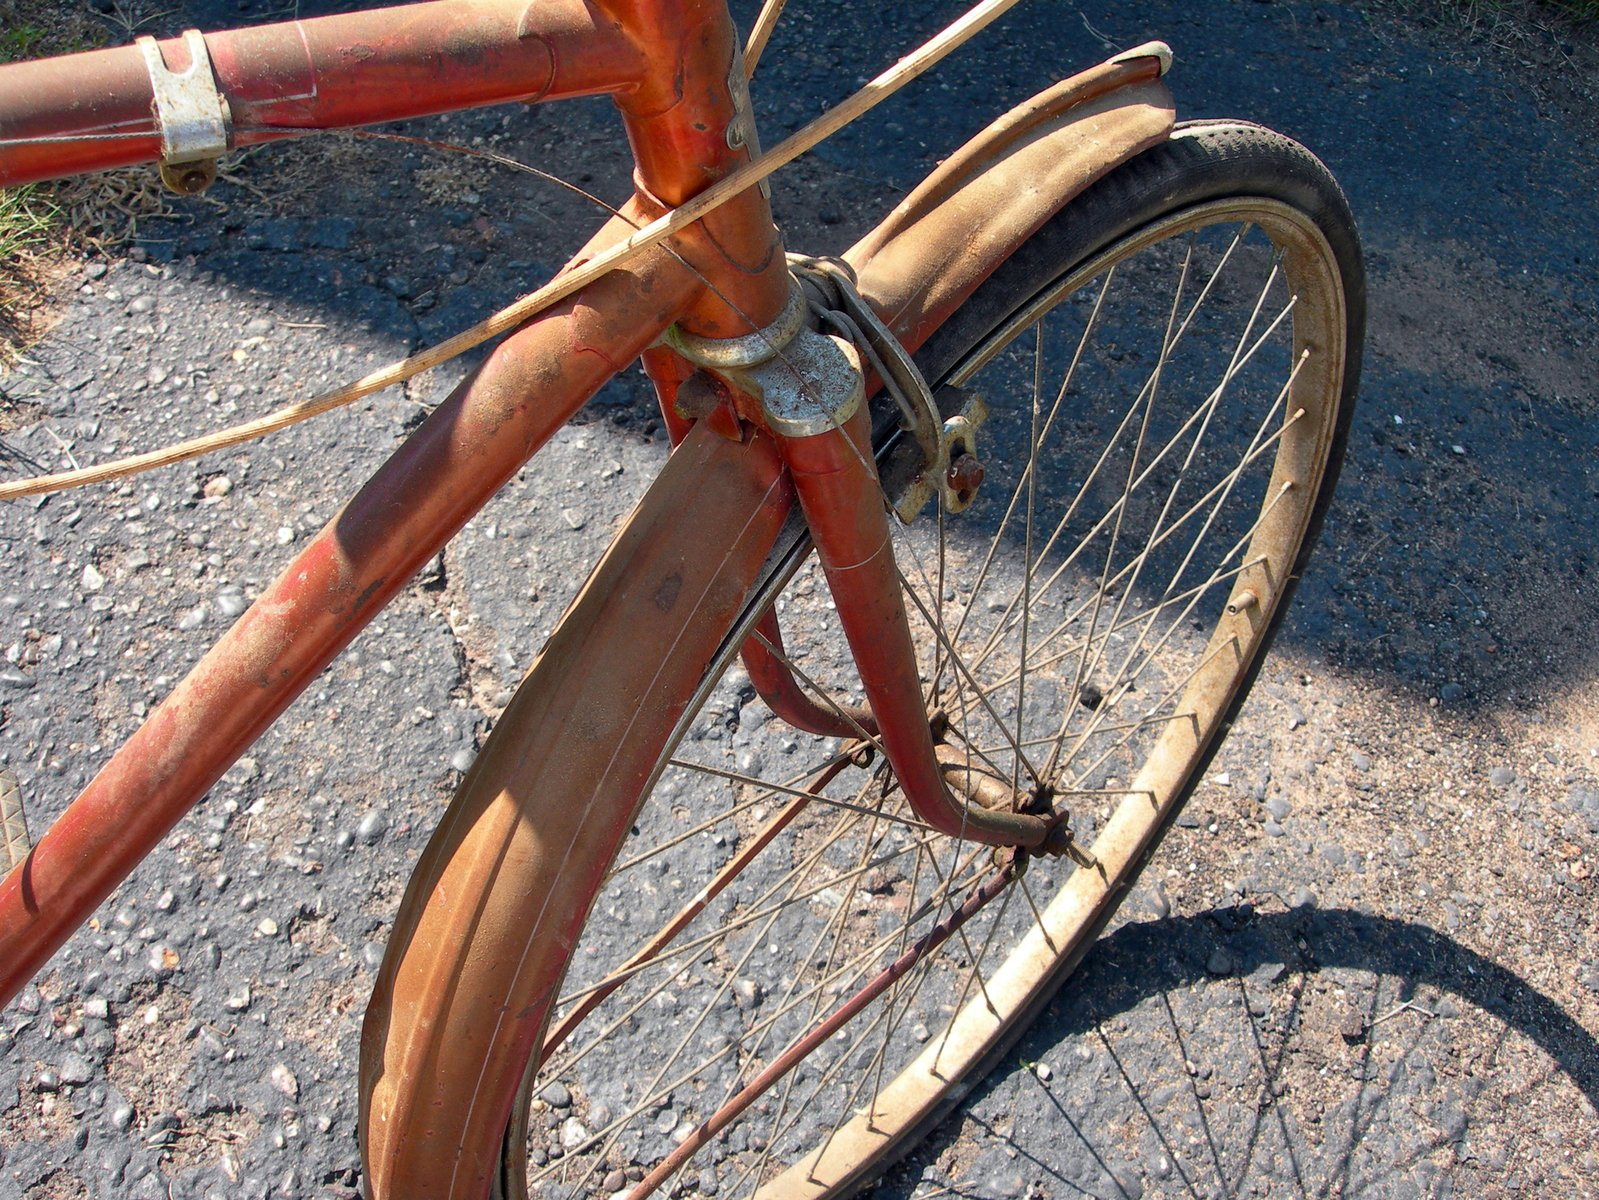Bicycle: (1, 24, 1596, 1191)
